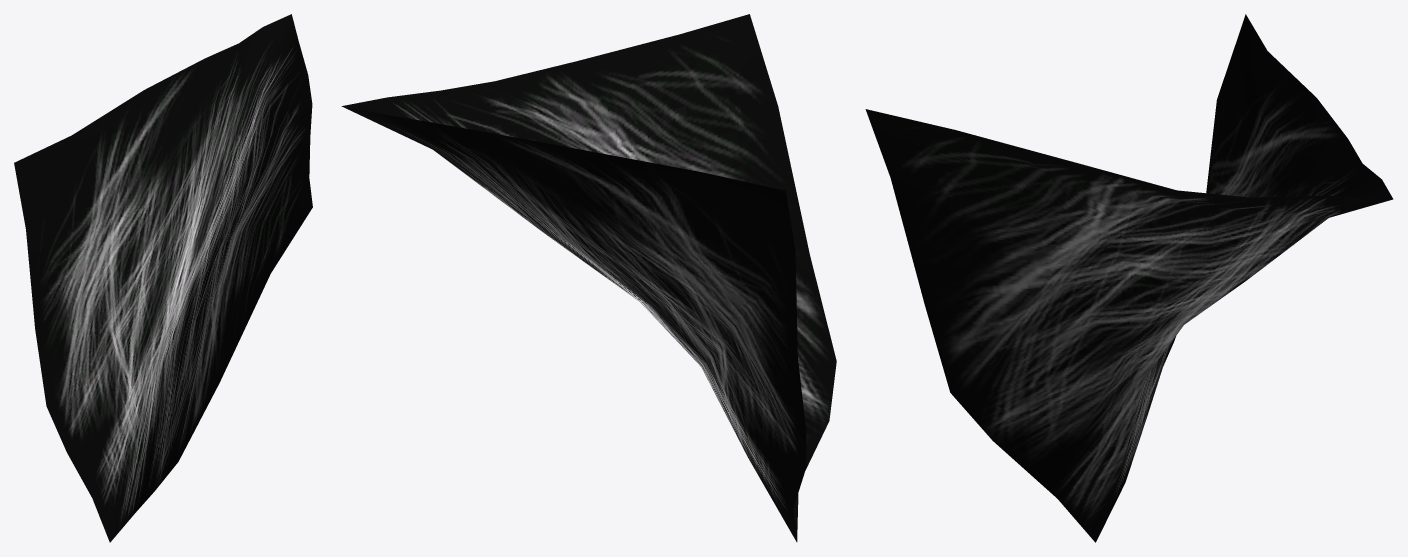
Rendered from SWORDLIGHT20_PS-AREA01_CORNERWEB24.fbx.
The picture shows the model from 3 angles, left to right: view 1: azimuth 30°, elevation 25°; view 2: azimuth 150°, elevation 25°; view 3: azimuth 270°, elevation 25°; orthographic projection. The views are drawn at different scales.
Parts seen in each view (by area): view 1: SWORDLIGHT20_PS-AREA01_CORNERWEB24; view 2: SWORDLIGHT20_PS-AREA01_CORNERWEB24; view 3: SWORDLIGHT20_PS-AREA01_CORNERWEB24.
Boxes of the visible parts, x1,y1,x2,y2 form: SWORDLIGHT20_PS-AREA01_CORNERWEB24: (14,14,312,542); SWORDLIGHT20_PS-AREA01_CORNERWEB24: (341,14,836,541); SWORDLIGHT20_PS-AREA01_CORNERWEB24: (865,14,1393,542).
Size of the model in its own units: 48456 by 53651 by 47369.
1 material, 1 textured.
